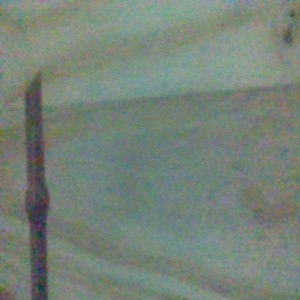cutter: (21, 69, 52, 300)
